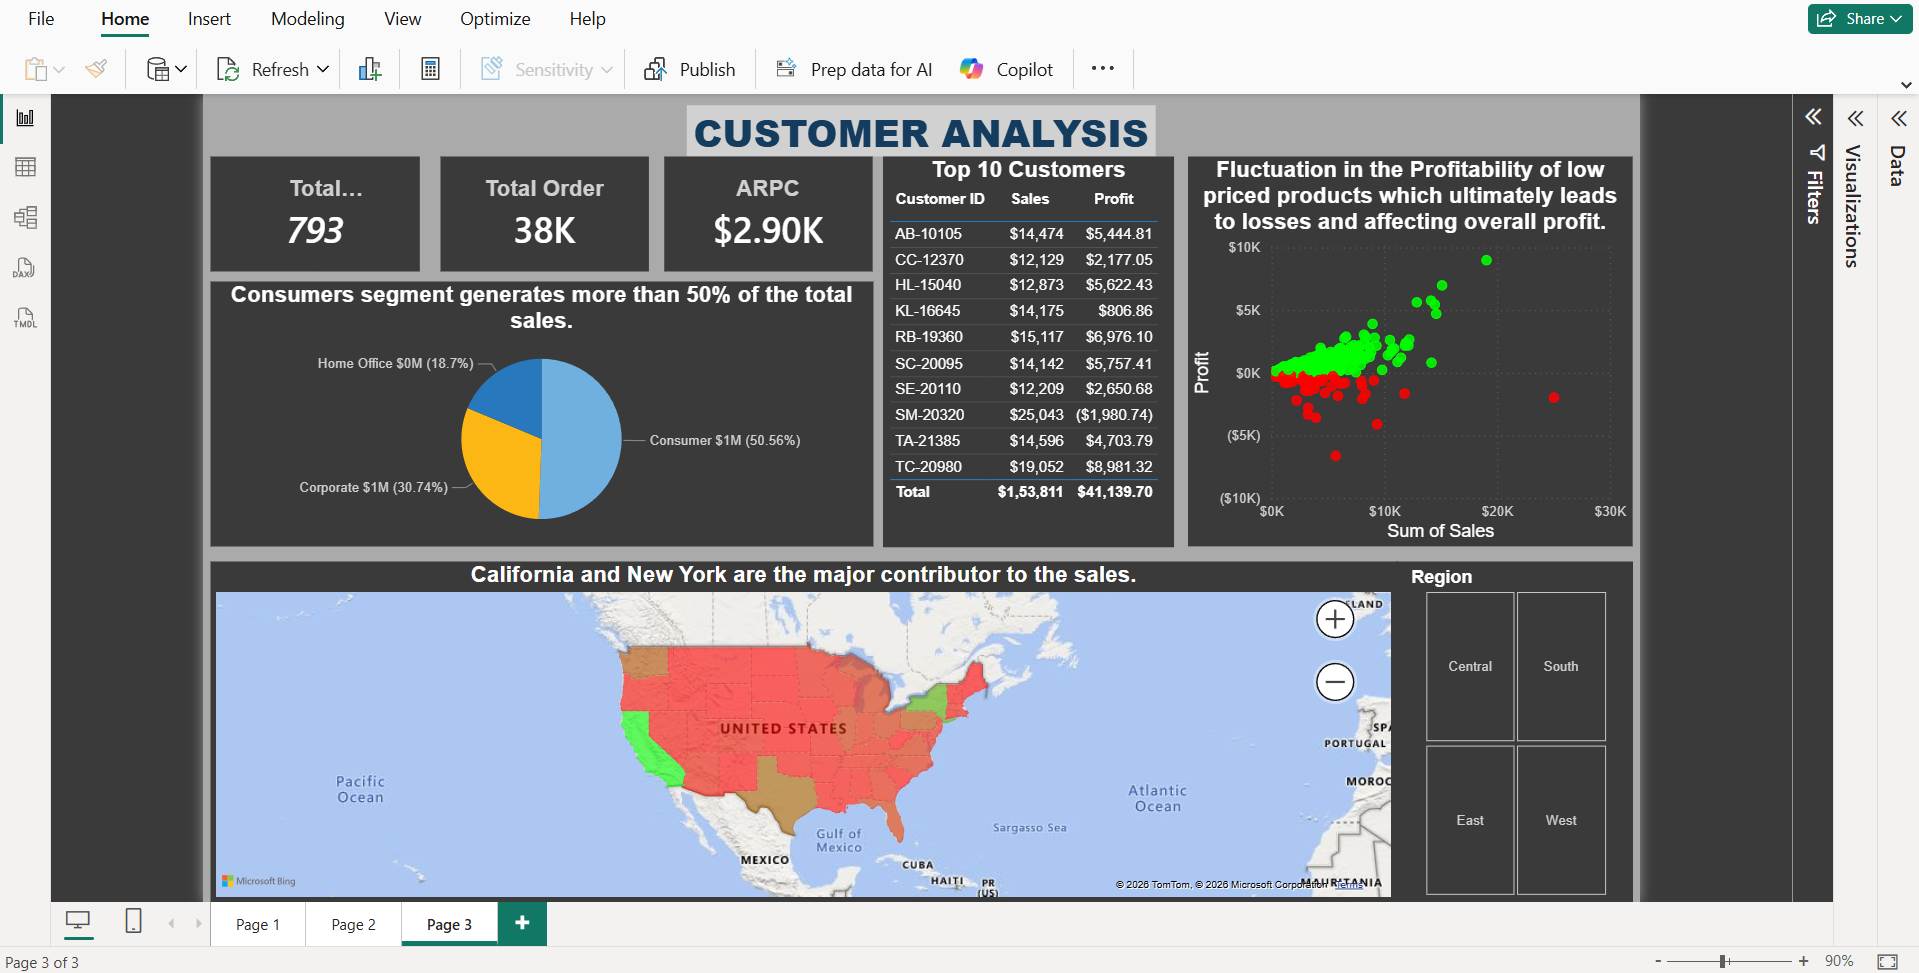

The dashboard page shown, as its layout file describes it:
{"tool":"powerbi","page":{"name":"Page 3","canvas":[1280,720],"ordinal":2},"visuals":[{"type":"textbox","title":"CUSTOMER ANALYSIS","box":[430.7,9.7,417.4,45.8],"z":0},{"type":"pieChart","title":"Consumers segment generates more than 50% of the total sales.","fields":{"Category":["superstore.Segment"],"Y":["Sum(superstore.Sales)"]},"box":[7,167,590,236],"z":1000},{"type":"tableEx","title":"Top 10 Customers","fields":{"Values":["superstore.Customer ID","Sum(superstore.Sales)","Sum(superstore.Profit)"]},"box":[605.8,55.8,259.3,347.7],"z":2000},{"type":"filledMap","title":"California and New York are the major contributor to the sales.","fields":{"Category":["superstore.State"]},"box":[6.7,416.3,1056.4,303.9],"z":3000},{"type":"cardVisual","fields":{"Data":["superstore.Total Customer"]},"box":[7,56,186,102],"z":4000},{"type":"cardVisual","fields":{"Data":["superstore.ARPC"]},"box":[410.8,55.7,185.9,102.4],"z":5000},{"type":"cardVisual","fields":{"Data":["Sum(superstore.Quantity)"]},"box":[211.5,55.7,185.9,102.4],"z":6000},{"type":"scatterChart","title":"Fluctuation in the Profitability of low priced products which ultimately leads to losses and affecting overall profit.","fields":{"Y":["Sum(superstore.Profit)"],"X":["superstore.Sales"],"Category":["superstore.Customer ID"]},"box":[877,56,396,347],"z":7000},{"type":"slicer","fields":{"Values":["superstore.Region"]},"box":[1063,416,210,304],"z":8000}]}

Visuals, with their boxes on the page's 1280x720 design canvas (x1, y1, x2, y2). These are canvas units, not pixel positions in the 1919x973 screenshot, which may show the page scaled, cropped or inside an application window:
"CUSTOMER ANALYSIS" textbox: [x1=431, y1=10, x2=848, y2=56]
"Consumers segment generates more than 50% of the total sales." pieChart: [x1=7, y1=167, x2=597, y2=403]
"Top 10 Customers" tableEx: [x1=606, y1=56, x2=865, y2=404]
"California and New York are the major contributor to the sales." filledMap: [x1=7, y1=416, x2=1063, y2=720]
cardVisual - superstore.Total Customer: [x1=7, y1=56, x2=193, y2=158]
cardVisual - superstore.ARPC: [x1=411, y1=56, x2=597, y2=158]
cardVisual - Sum(superstore.Quantity): [x1=212, y1=56, x2=397, y2=158]
"Fluctuation in the Profitability of low priced products which ultimately leads to losses and affecting overall profit." scatterChart: [x1=877, y1=56, x2=1273, y2=403]
slicer - superstore.Region: [x1=1063, y1=416, x2=1273, y2=720]
